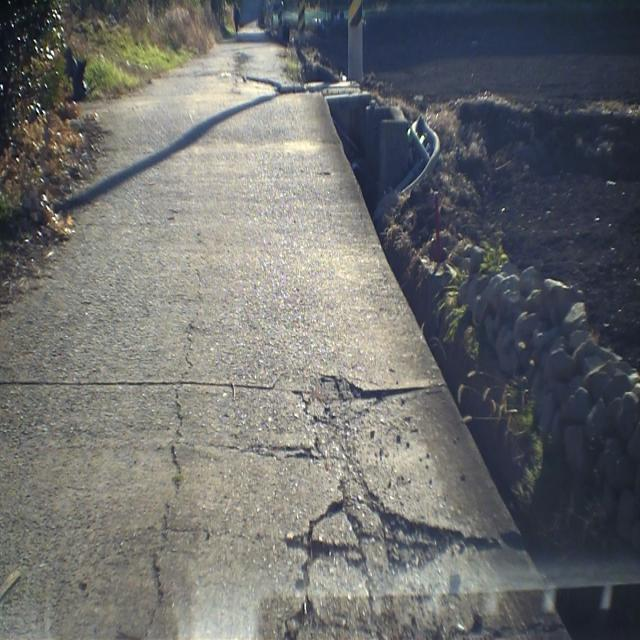Pothole: (283, 489, 474, 600)
